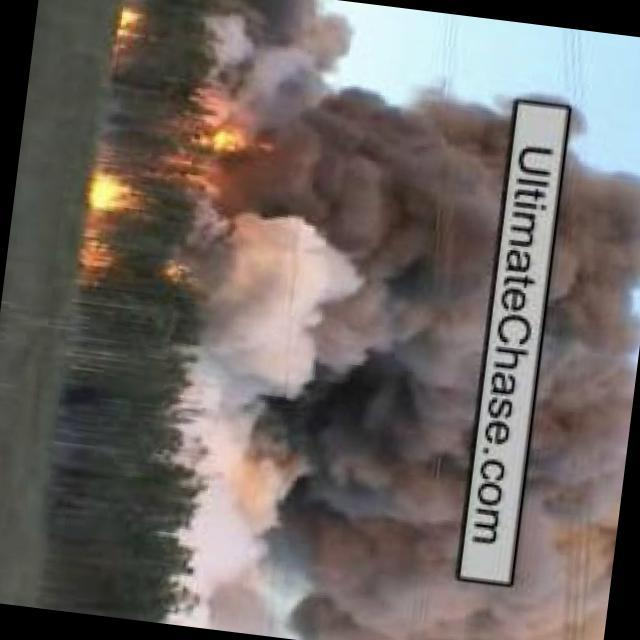Fire: (203, 119, 271, 165), (87, 174, 147, 219), (115, 6, 140, 50), (76, 250, 109, 277)
